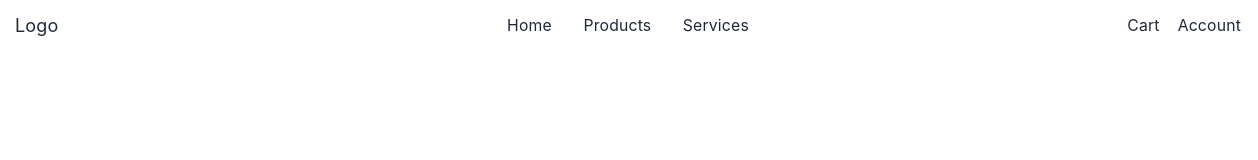
Test case: EssentialHeader › shows dropdown when hovering over item with children
The image size is (1258, 160).
Expected: the text "Consulting" is not shown
Hover over Services to show dropdown
Hover over the list item "Services": (716, 26) [683,16,749,35]
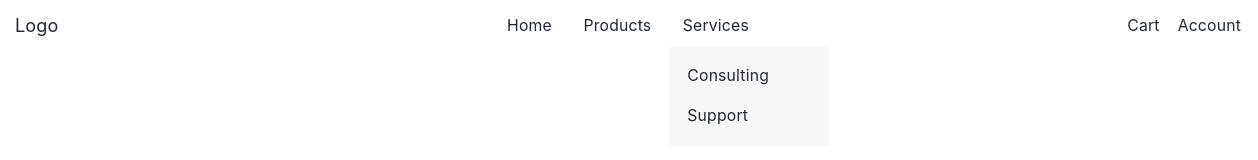
Result: the link "Consulting" is shown at [687,66,769,84]
Result: the link "Support" is shown at [687,106,748,125]
